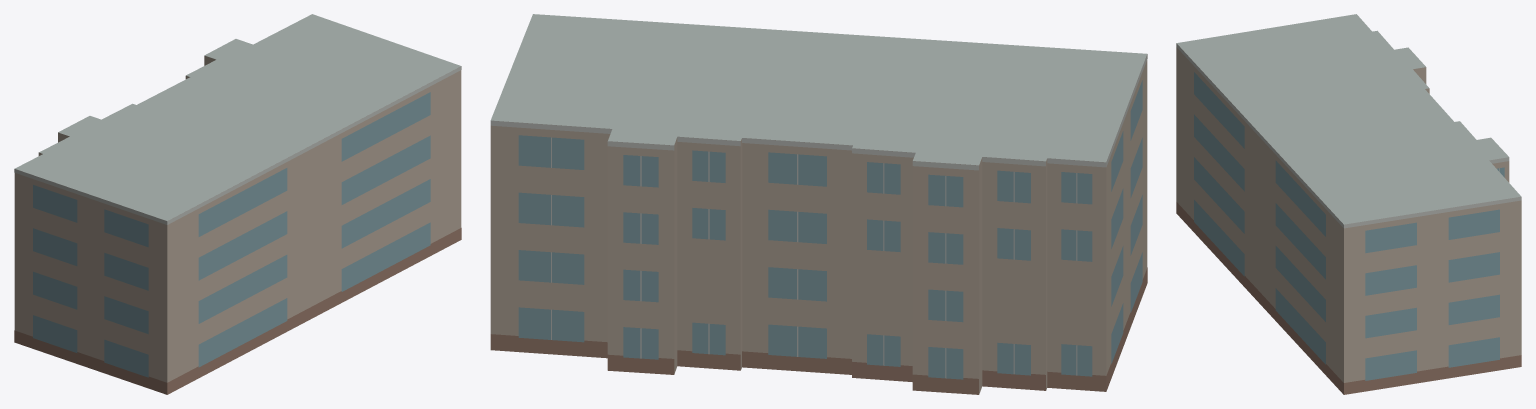
Rendered from survey-upis-32549239.glb.
The picture shows the model from 3 angles, left to right: view 1: azimuth 30°, elevation 25°; view 2: azimuth 150°, elevation 25°; view 3: azimuth 270°, elevation 25°; orthographic projection. The views are drawn at different scales.
Visible parts, largest first — view 1: survey-upis-32549239.tmp; view 2: survey-upis-32549239.tmp; view 3: survey-upis-32549239.tmp.
Boxes of the visible parts, bbox=[...] form: survey-upis-32549239.tmp: bbox=[14, 14, 461, 394]; survey-upis-32549239.tmp: bbox=[490, 14, 1147, 394]; survey-upis-32549239.tmp: bbox=[1176, 14, 1521, 394].
Bounding box in the file's own units: 28.8 × 10.85 × 19.94.
